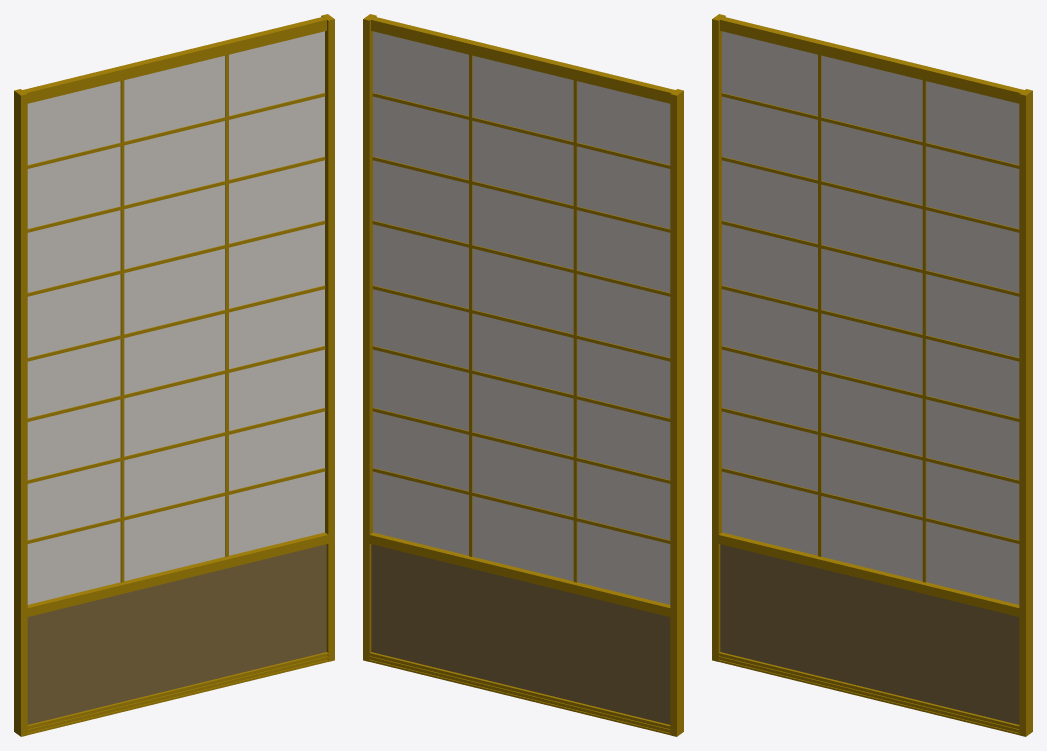
File: shouji.fbx
3 views of the same model, side by side, from view 1: azimuth 30°, elevation 25°; view 2: azimuth 150°, elevation 25°; view 3: azimuth 330°, elevation 25° (orthographic).
Visible parts, largest first — view 1: shouji15, shouji3, shouji11, shouji16, shouji4, shouji1, shouji13, shouji5, shouji10, shouji2, shouji9, shouji14 (+4 smaller); view 2: shouji15, shouji3, shouji11, shouji16, shouji4, shouji1, shouji13, shouji5, shouji10, shouji6, shouji9, shouji2 (+4 smaller); view 3: shouji15, shouji3, shouji16, shouji11, shouji4, shouji1, shouji13, shouji10, shouji5, shouji2, shouji6, shouji8 (+4 smaller).
Boxes of the visible parts, bbox=[...] form: shouji15: bbox=[27, 31, 324, 604]; shouji3: bbox=[27, 544, 326, 724]; shouji11: bbox=[14, 89, 27, 736]; shouji16: bbox=[321, 14, 334, 661]; shouji4: bbox=[22, 17, 326, 103]; shouji1: bbox=[27, 532, 328, 616]; shouji13: bbox=[27, 652, 328, 734]; shouji5: bbox=[120, 80, 124, 582]; shouji10: bbox=[225, 54, 228, 556]; shouji2: bbox=[27, 407, 325, 483]; shouji9: bbox=[27, 468, 325, 543]; shouji14: bbox=[27, 156, 325, 232]; shouji15: bbox=[373, 31, 670, 604]; shouji3: bbox=[371, 544, 670, 724]; shouji11: bbox=[670, 89, 683, 736]; shouji16: bbox=[363, 14, 376, 661]; shouji4: bbox=[371, 17, 675, 103]; shouji1: bbox=[369, 532, 670, 616]; shouji13: bbox=[369, 652, 670, 734]; shouji5: bbox=[573, 80, 577, 582]; shouji10: bbox=[469, 54, 472, 556]; shouji6: bbox=[372, 285, 670, 361]; shouji9: bbox=[372, 468, 670, 543]; shouji2: bbox=[372, 407, 670, 483]; shouji15: bbox=[722, 31, 1019, 604]; shouji3: bbox=[720, 544, 1019, 724]; shouji16: bbox=[1019, 89, 1032, 736]; shouji11: bbox=[712, 14, 725, 661]; shouji4: bbox=[720, 17, 1024, 103]; shouji1: bbox=[718, 532, 1019, 616]; shouji13: bbox=[718, 652, 1019, 734]; shouji10: bbox=[922, 80, 926, 582]; shouji5: bbox=[818, 54, 821, 556]; shouji2: bbox=[721, 407, 1019, 483]; shouji6: bbox=[721, 285, 1019, 361]; shouji8: bbox=[721, 346, 1019, 421].
Size of the model in its own units: 111 by 216 by 4.31.
